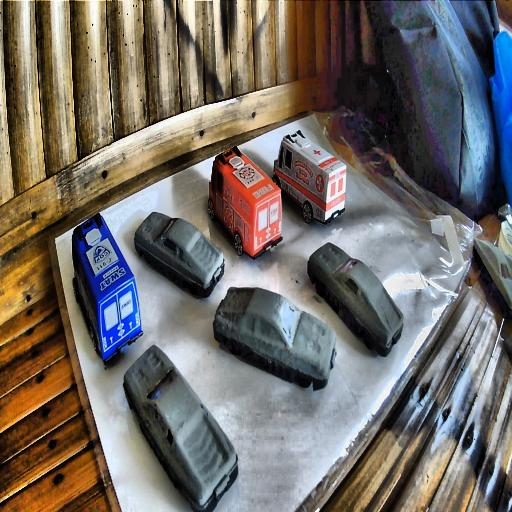ambulance: (271, 128, 343, 227)
fire_truck: (208, 146, 282, 260)
normal_car: (123, 344, 239, 510), (214, 287, 332, 391), (309, 244, 405, 358), (134, 212, 226, 301), (473, 237, 512, 313)
police car: (71, 214, 143, 365)
